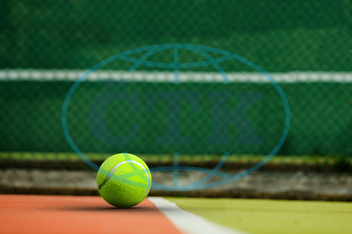tennis_ball: (96, 153, 152, 209)
